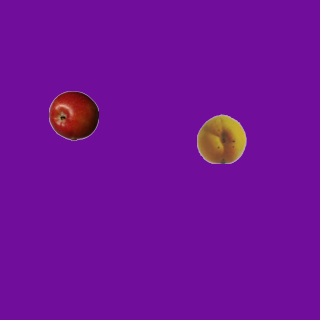Apple Braeburn: (48, 90, 98, 140)
Peach 2: (196, 113, 246, 163)
